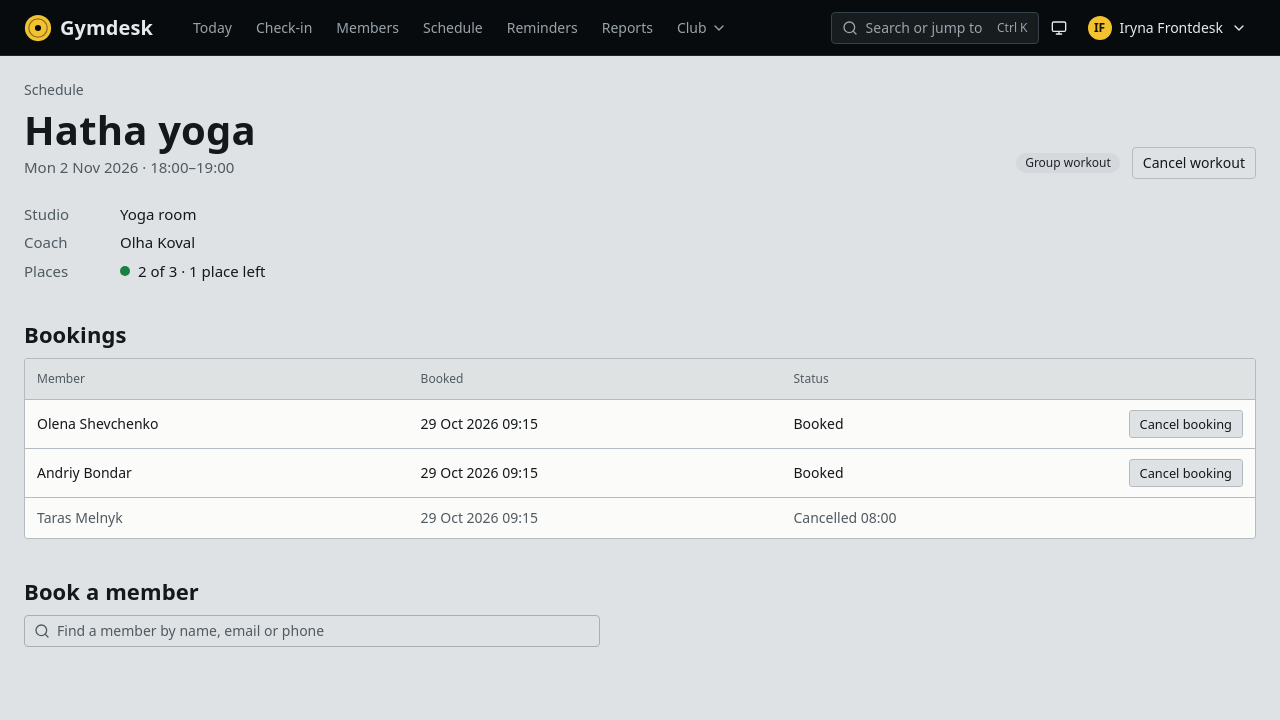
booking a member › shows the server's reason when booking is refused
Expected: the heading "Hatha yoga" is shown, [24,108,256,152]
Type "kateryna" into the search field labelled "Find a member" at [312, 631], box [24,615,600,647]
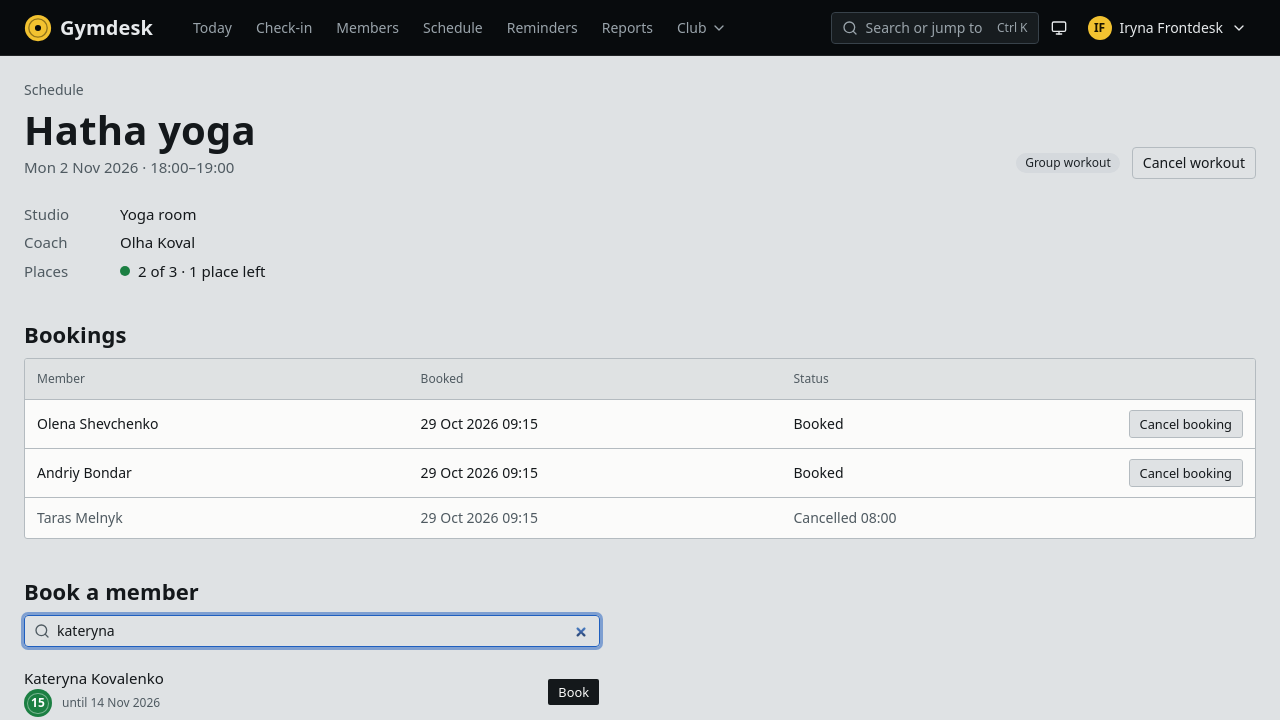
Click the button with aria-label "Book Kateryna Kovalenko" at [574, 692], box [547,678,600,706]
(page scrolled)
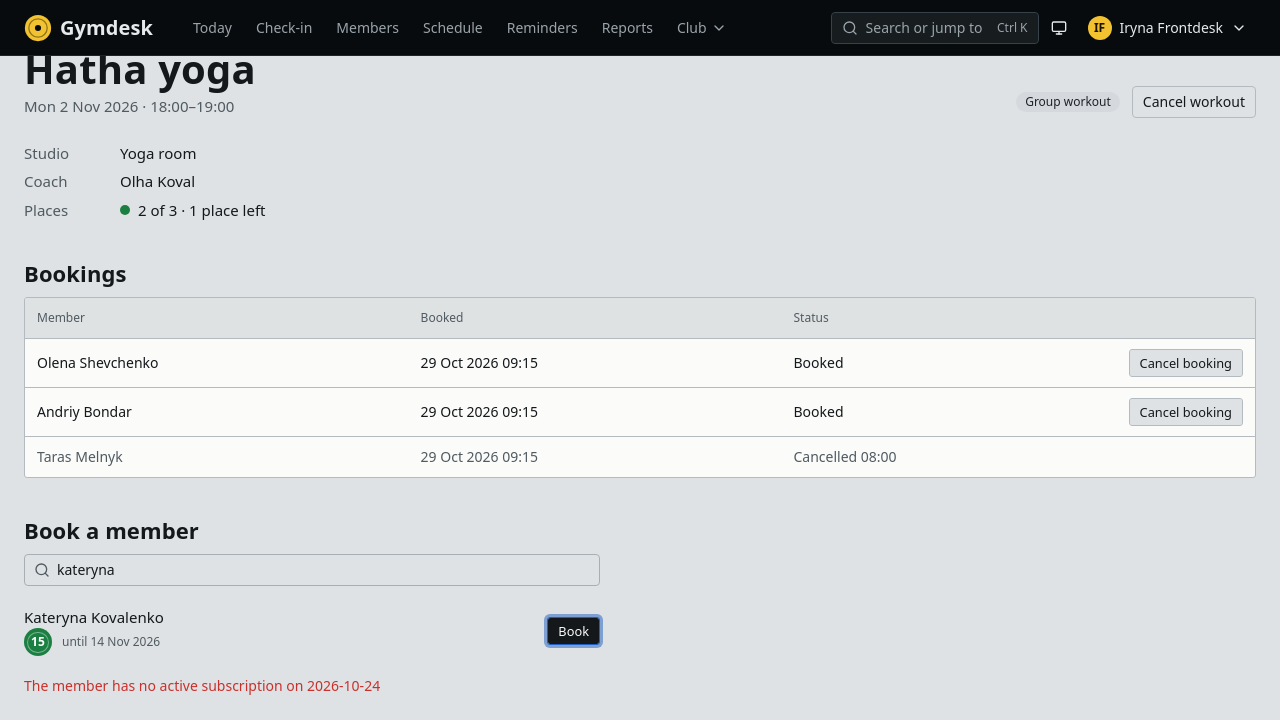
Result: the message reads "The member has no active subscription on 2026-10-24" at [24,676,380,695]
